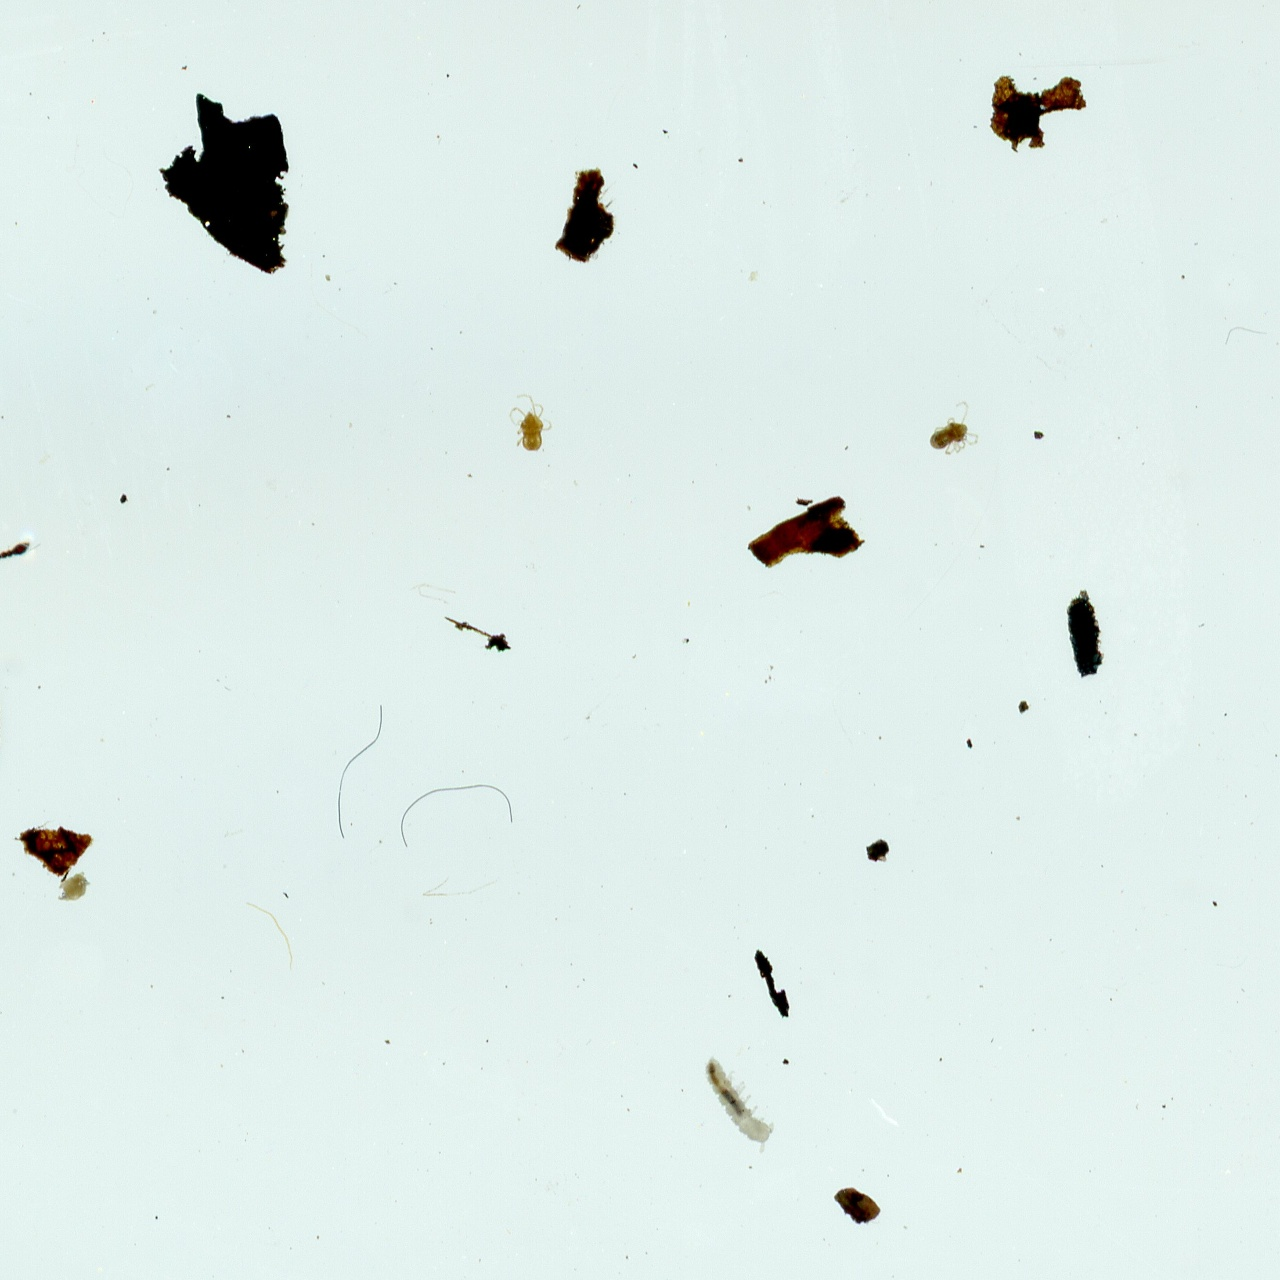arthropod: (0, 448, 40, 821), (683, 1039, 791, 1165), (928, 399, 980, 461), (506, 392, 554, 455)
